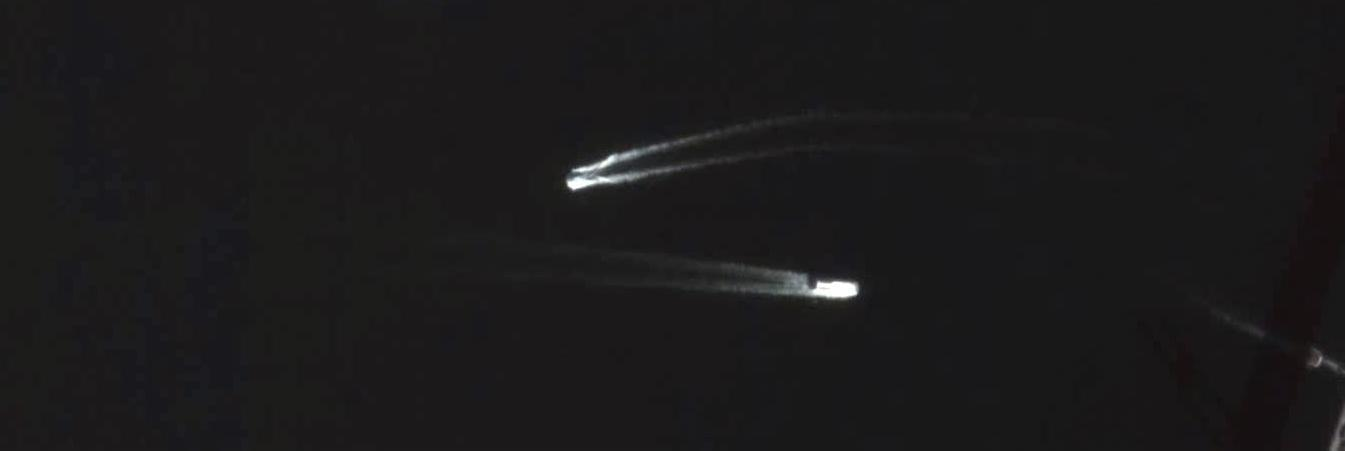person: (815, 280, 858, 299), (564, 171, 591, 180)
